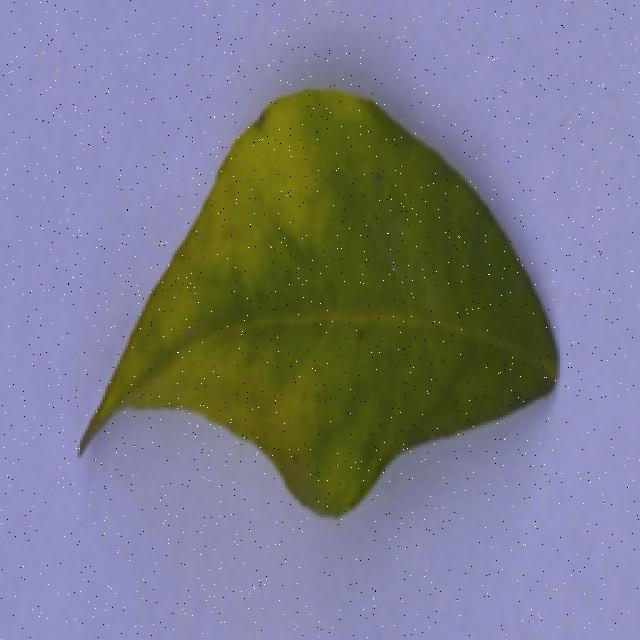greening: (49, 73, 586, 541)
